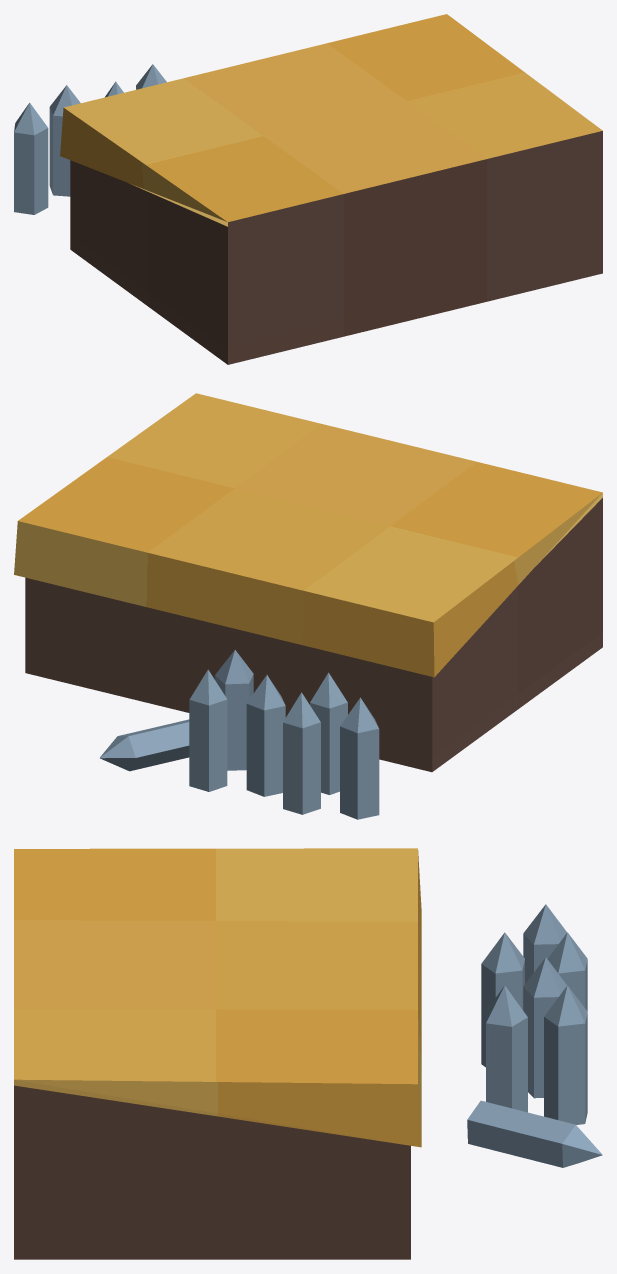
File: SMGAmmo.gltf
The picture shows the model from 3 angles, top to bottom: view 1: azimuth 30°, elevation 25°; view 2: azimuth 150°, elevation 25°; view 3: azimuth 270°, elevation 25°; orthographic projection. The views are drawn at different scales.
Visible parts, largest first — view 1: cuboid, cylinder (×2); view 2: cuboid, cylinder (×7); view 3: cuboid, cylinder (×7).
Boxes of the visible parts, x1=… form: cuboid: x1=60, y1=14, x2=602, y2=364; cylinder (×2): x1=14, y1=85, x2=80, y2=214; cuboid: x1=14, y1=393, x2=602, y2=772; cylinder (×7): x1=99, y1=650, x2=379, y2=819; cuboid: x1=14, y1=848, x2=421, y2=1259; cylinder (×7): x1=467, y1=904, x2=602, y2=1167.
Bounding box in the file's own units: 0.1687 × 0.0606 × 0.1761.
1 material, 1 textured.
